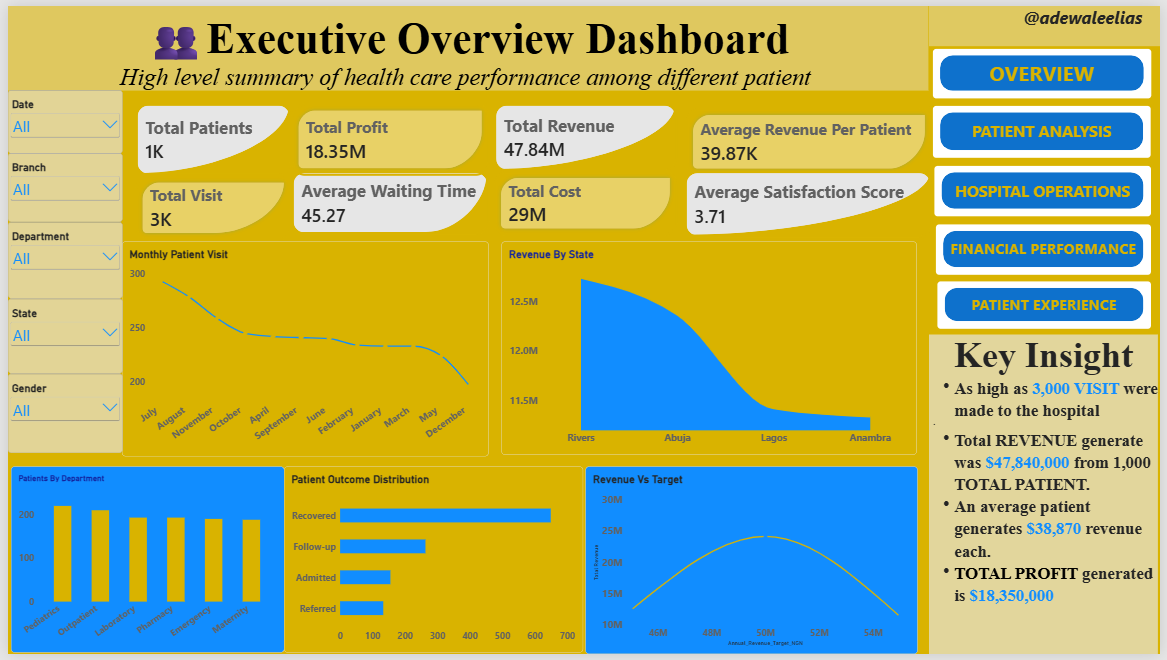

Layout of this report page (visuals, bound fields, positions):
{"tool":"powerbi","page":{"name":"OVERVIEW","canvas":[2560,1440],"ordinal":0},"visuals":[{"type":"actionButton","box":[2045.5,85.9,502.6,127.2],"z":0},{"type":"lineChart","title":"Monthly Patient Visit","fields":{"Category":["Date_Table.Month"],"Y":["Date_Table.Total Visit"]},"box":[254.5,521.7,814.4,477.2],"z":1000},{"type":"actionButton","box":[2047.3,214.1,501.5,132.4],"z":2000},{"type":"cardVisual","fields":{"Data":["Date_Table.Total Revenue"]},"box":[1078.4,216.3,407.2,151.1],"z":3000,"group":"g1"},{"type":"actionButton","box":[2050.4,346.5,498.4,129.2],"z":3000},{"type":"cardVisual","fields":{"Data":["Date_Table.Total Patients"]},"box":[283.1,216.3,346.8,160.7],"z":4000,"group":"g1"},{"type":"actionButton","box":[2053.6,475.6,495.3,129.2],"z":4000},{"type":"stackedAreaChart","title":"Revenue By State","fields":{"Category":["Patient_Visits.State"],"Y":["Date_Table.Total Revenue"]},"box":[1097.5,521.7,922.6,474],"z":5000},{"type":"actionButton","box":[2056.7,604.8,492.1,122.7],"z":6000},{"type":"clusteredColumnChart","title":"Patients By Department","fields":{"Category":["Patient_Visits.Department"],"Y":["Date_Table.Total Patients"]},"box":[6.4,1024.4,607.6,413.6],"z":7000},{"type":"lineChart","title":"Revenue Vs Target","fields":{"Category":["State_Targets.Annual_Revenue_Target_NGN"],"Y":["Date_Table.Total Revenue"]},"box":[1282,1024.4,738,416.7],"z":8000},{"type":"cardVisual","fields":{"Data":["Date_Table.Average Revenue Per Patient"]},"box":[1507.9,225.9,547.2,151.1],"z":9000,"group":"g1"},{"type":"clusteredBarChart","title":"Patient Outcome Distribution","fields":{"Category":["Patient_Visits.Outcome"],"Y":["Date_Table.Total Patients"]},"box":[614,1024.4,664.9,413.6],"z":9000},{"type":"textbox","box":[0,0,2045.5,187.7],"z":10000},{"type":"slicer","fields":{"Values":["Date_Table.Date"]},"box":[0,187.7,254.5,141.7],"z":10000,"group":"g2"},{"type":"textbox","box":[2045.5,0,515.4,89.1],"z":11000},{"type":"slicer","fields":{"Values":["Patient_Visits.State"]},"box":[0,652.2,254.5,166.8],"z":12000,"group":"g2"},{"type":"textbox","box":[2045.5,728.5,509,712.6],"z":12000},{"type":"group","id":"g1","title":"Group 1","box":[283.1,216.3,1771.9,295.9],"z":13000},{"type":"group","id":"g2","title":"Group 2","box":[0,187.7,254.5,808],"z":14000},{"type":"slicer","fields":{"Values":["Patient_Visits.Branch"]},"box":[0,329.4,254.5,153.5],"z":14000,"group":"g2"},{"type":"cardVisual","fields":{"Data":["Date_Table.Total Visit"]},"box":[283.1,377,346.8,144.7],"z":15000,"group":"g1"},{"type":"slicer","fields":{"Values":["Patient_Visits.Department"]},"box":[0,482.1,254.5,170.1],"z":17000,"group":"g2"},{"type":"slicer","fields":{"Values":["Patient_Visits.Gender"]},"box":[0,819.1,254.5,176.7],"z":18000,"group":"g2"},{"type":"cardVisual","fields":{"Data":["Date_Table.Average Waiting Time"]},"box":[629.9,367.4,439,141.4],"z":19000,"group":"g1"},{"type":"cardVisual","fields":{"Data":["Date_Table.Average Satisfaction Score"]},"box":[1504.7,367.4,550.4,147.9],"z":20000,"group":"g1"},{"type":"cardVisual","fields":{"Data":["Date_Table.Total Cost"]},"box":[1078.4,367.4,407.2,144.7],"z":21000,"group":"g1"},{"type":"cardVisual","fields":{"Data":["Date_Table.Total Profit"]},"box":[629.9,216.3,439,160.7],"z":23000,"group":"g1"}]}

Visuals, with their boxes in screenshot pixels (x1, y1, x2, y2), scaled from the page's 2560x1440 canvas onto the 1167x660 screenshot:
actionButton: box=[932, 39, 1162, 98]
"Monthly Patient Visit" lineChart: box=[116, 239, 487, 458]
actionButton: box=[933, 98, 1162, 159]
cardVisual - Date_Table.Total Revenue: box=[492, 99, 677, 168]
actionButton: box=[935, 159, 1162, 218]
cardVisual - Date_Table.Total Patients: box=[129, 99, 287, 173]
actionButton: box=[936, 218, 1162, 277]
"Revenue By State" stackedAreaChart: box=[500, 239, 921, 456]
actionButton: box=[938, 277, 1162, 333]
"Patients By Department" clusteredColumnChart: box=[3, 470, 280, 659]
"Revenue Vs Target" lineChart: box=[584, 470, 921, 659]
cardVisual - Date_Table.Average Revenue Per Patient: box=[687, 104, 937, 173]
"Patient Outcome Distribution" clusteredBarChart: box=[280, 470, 583, 659]
textbox: box=[0, 0, 932, 86]
slicer - Date_Table.Date: box=[0, 86, 116, 151]
textbox: box=[932, 0, 1166, 41]
slicer - Patient_Visits.State: box=[0, 299, 116, 375]
textbox: box=[932, 334, 1164, 659]
"Group 1" group: box=[129, 99, 937, 235]
"Group 2" group: box=[0, 86, 116, 456]
slicer - Patient_Visits.Branch: box=[0, 151, 116, 221]
cardVisual - Date_Table.Total Visit: box=[129, 173, 287, 239]
slicer - Patient_Visits.Department: box=[0, 221, 116, 299]
slicer - Patient_Visits.Gender: box=[0, 375, 116, 456]
cardVisual - Date_Table.Average Waiting Time: box=[287, 168, 487, 233]
cardVisual - Date_Table.Average Satisfaction Score: box=[686, 168, 937, 236]
cardVisual - Date_Table.Total Cost: box=[492, 168, 677, 235]
cardVisual - Date_Table.Total Profit: box=[287, 99, 487, 173]
